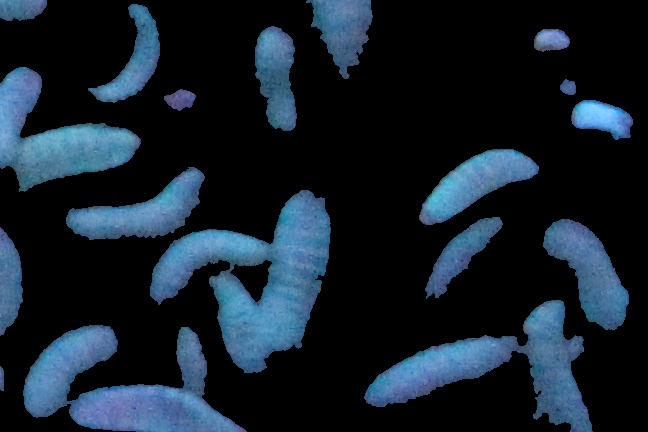larvae: (262, 191, 338, 345), (65, 165, 204, 246), (517, 299, 599, 432), (251, 1, 385, 81), (543, 212, 627, 333), (368, 337, 507, 410), (417, 145, 535, 226), (150, 226, 266, 303), (22, 323, 116, 413), (69, 387, 243, 432), (13, 124, 139, 183), (94, 7, 168, 105), (426, 218, 499, 309), (253, 30, 316, 132), (215, 271, 270, 379), (1, 65, 46, 159), (175, 332, 224, 405), (1, 218, 23, 343)
